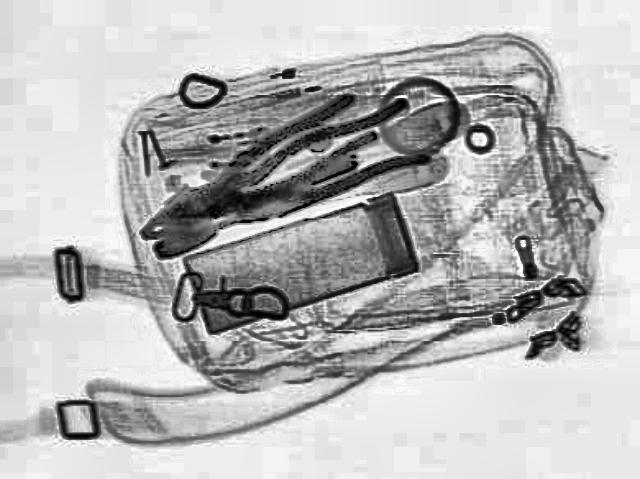Pliers: (114, 89, 398, 255), (140, 94, 448, 246)
